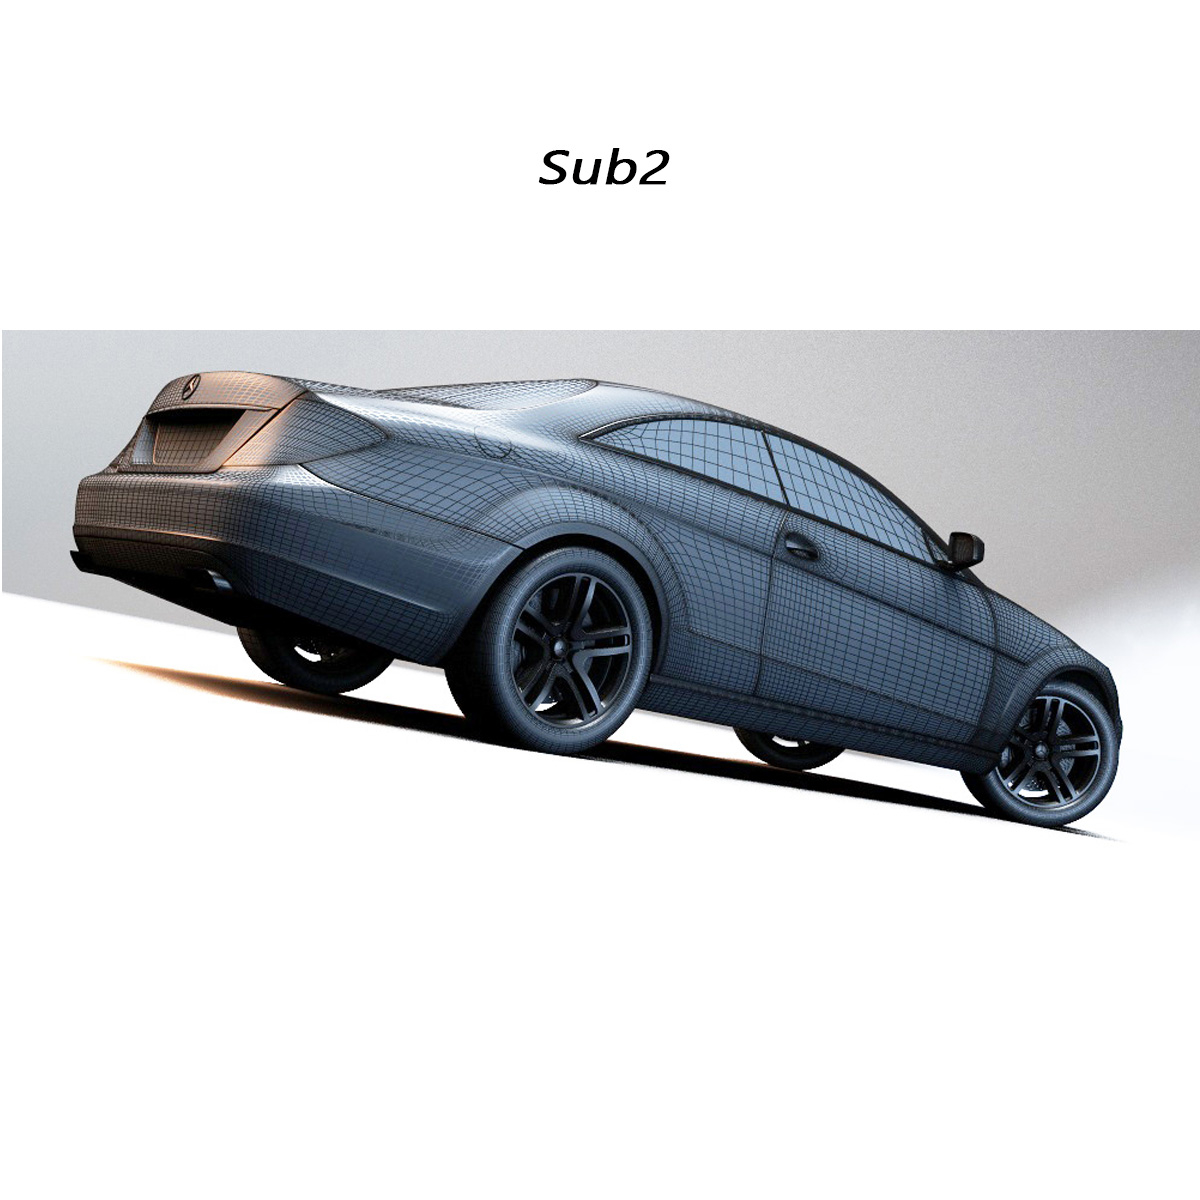hatch: (473, 424, 513, 460)
